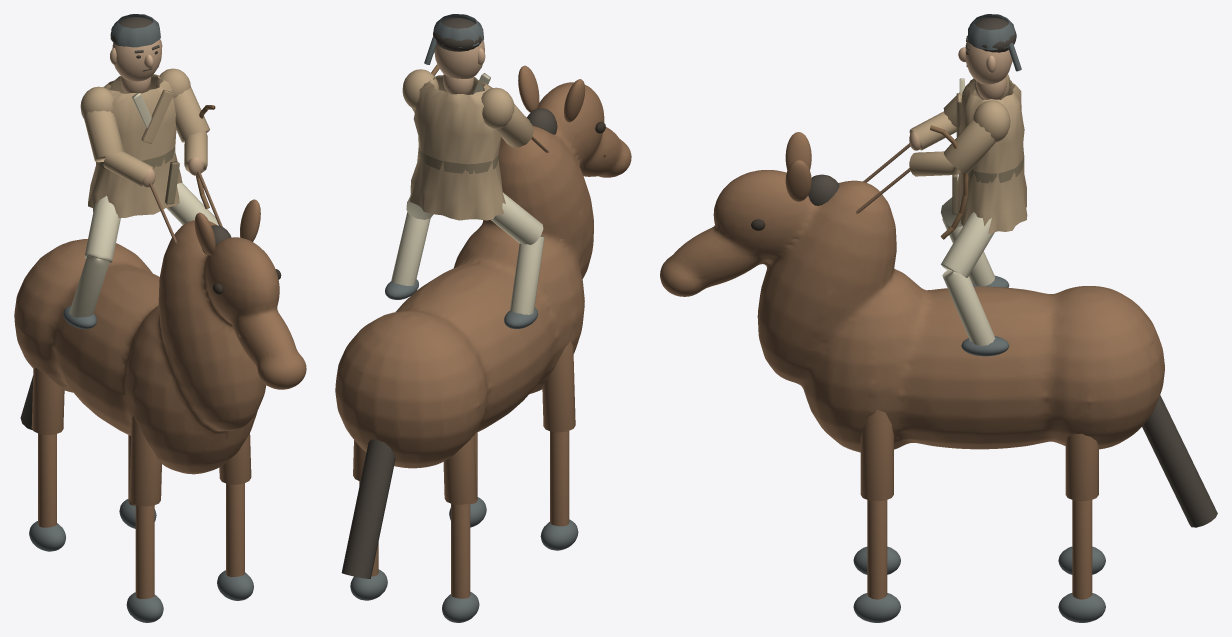
File: cavalry-xia.glb
The picture shows the model from 3 angles, left to right: view 1: azimuth 30°, elevation 25°; view 2: azimuth 150°, elevation 25°; view 3: azimuth 270°, elevation 25°; orthographic projection. The views are drawn at different scales.
Parts seen in each view (by area): view 1: Barrel, Cross-collar working coat.001, Upper leg, Lower leg, Upper leg.001, Lower leg.001, Lower leg.002, thigh.002, shin.002, upper.002, Face.001, upper.003 (+15 smaller); view 2: Barrel, Cross-collar working coat.001, Tail, Upper leg, Lower leg, Lower leg.001, shin.002, Upper leg.001, shin.003, thigh.002, Face.001, Shoulder.002 (+14 smaller); view 3: Barrel, Cross-collar working coat.001, Tail, Upper leg.002, Upper leg.003, Lower leg.002, Lower leg.003, shin.003, thigh.003, upper.003, Face.001, Hoof.003 (+6 smaller).
Boxes of the visible parts, x1,y1,x2,y2 form: Barrel: (14, 220, 306, 474); Cross-collar working coat.001: (88, 74, 182, 217); Upper leg: (129, 416, 161, 506); Lower leg: (135, 505, 154, 598); Upper leg.001: (31, 367, 64, 434); Lower leg.001: (38, 433, 56, 527); Lower leg.002: (226, 483, 244, 576); thigh.002: (84, 196, 120, 263); shin.002: (69, 256, 109, 317); upper.002: (83, 110, 123, 162); Face.001: (112, 39, 161, 81); upper.003: (173, 87, 209, 142); Barrel: (335, 82, 631, 468); Cross-collar working coat.001: (409, 75, 505, 220); Tail: (341, 439, 395, 578); Upper leg: (542, 341, 575, 432); Lower leg: (550, 431, 569, 526); Lower leg.001: (451, 503, 470, 598); shin.002: (510, 235, 544, 314); Upper leg.001: (443, 434, 476, 504); shin.003: (391, 212, 430, 285); thigh.002: (491, 192, 543, 244); Face.001: (434, 40, 484, 78); Shoulder.002: (481, 87, 514, 128); Barrel: (660, 170, 1164, 452); Cross-collar working coat.001: (957, 77, 1027, 233); Tail: (1142, 395, 1217, 527); Upper leg.002: (860, 409, 893, 501); Upper leg.003: (1065, 433, 1098, 501); Lower leg.002: (867, 500, 887, 599); Lower leg.003: (1072, 500, 1092, 599); shin.003: (942, 270, 995, 346); thigh.003: (941, 212, 994, 277); upper.003: (944, 119, 995, 173); Face.001: (965, 41, 1012, 84); Hoof.003: (1058, 593, 1105, 622).
Size of the model in its own units: 0.7251 by 2.67 by 2.34.
